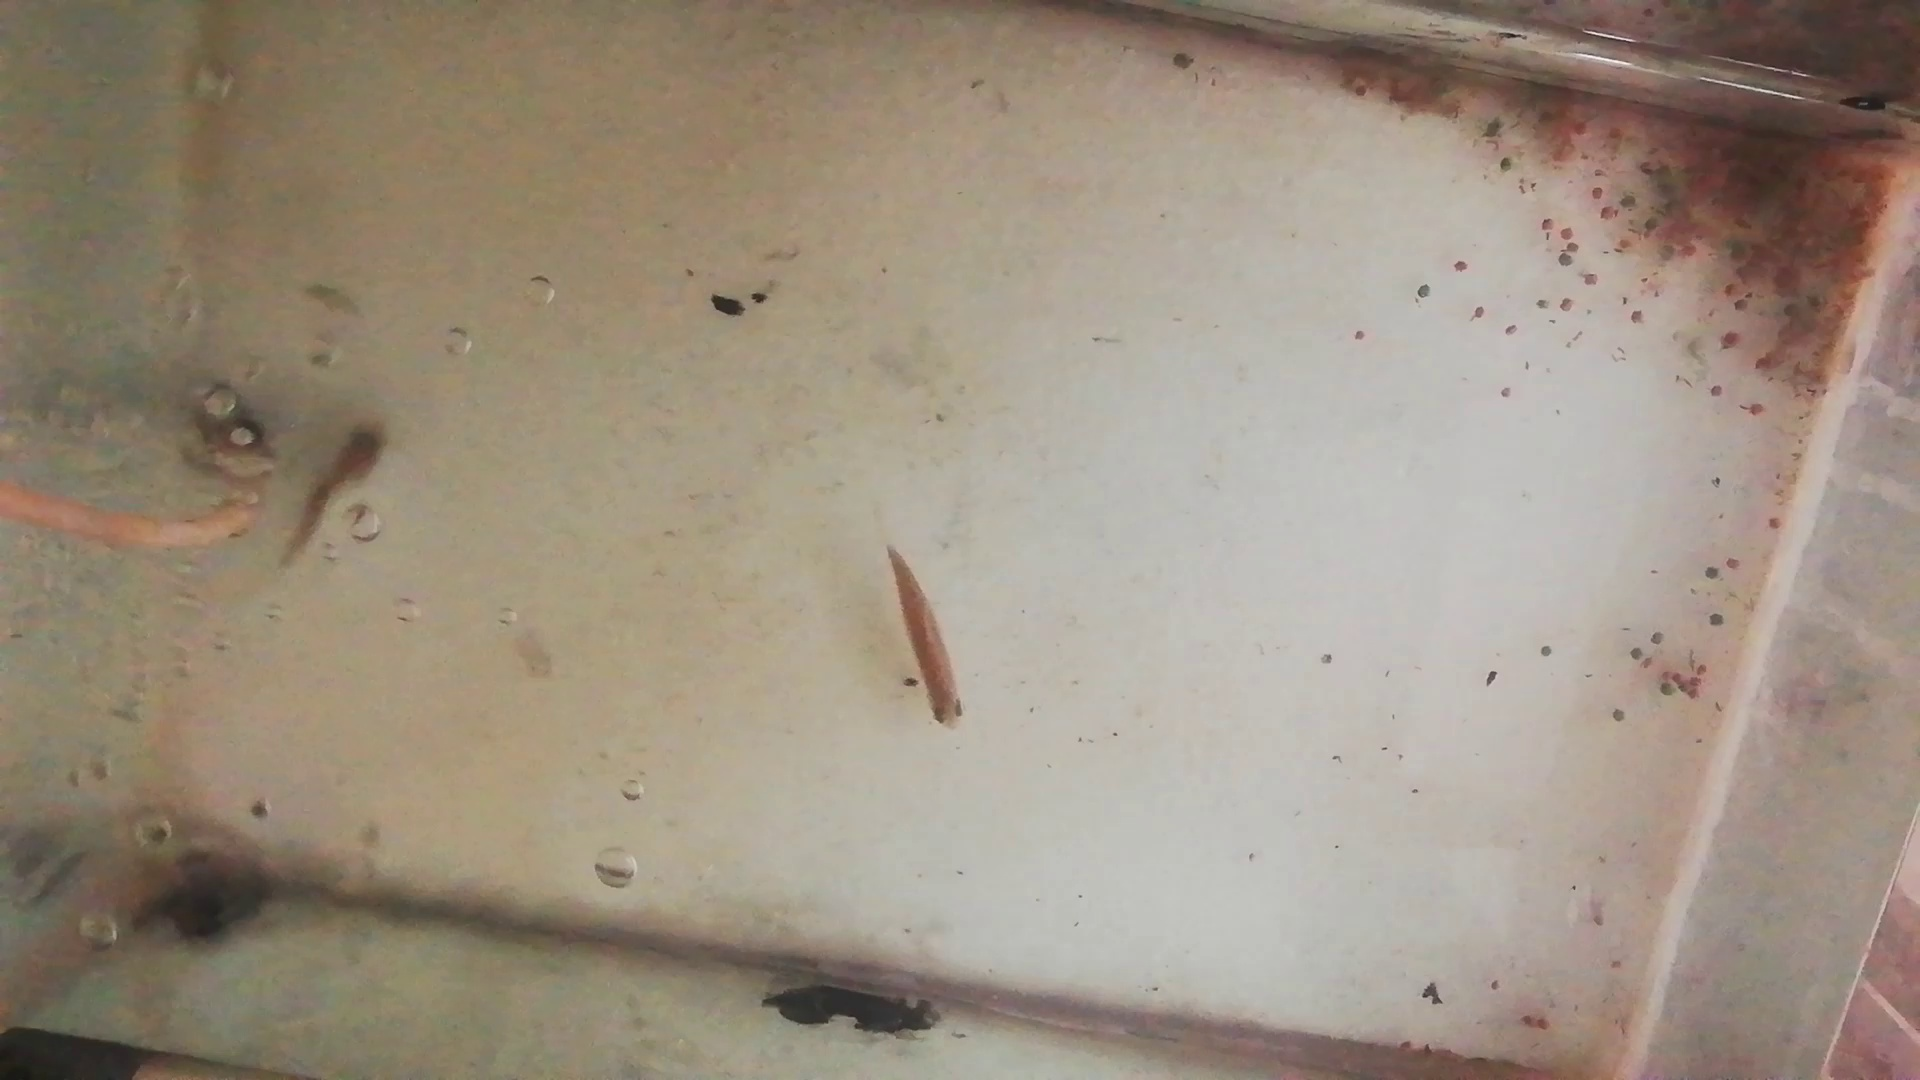fish: (276, 418, 398, 571), (880, 542, 975, 729)
